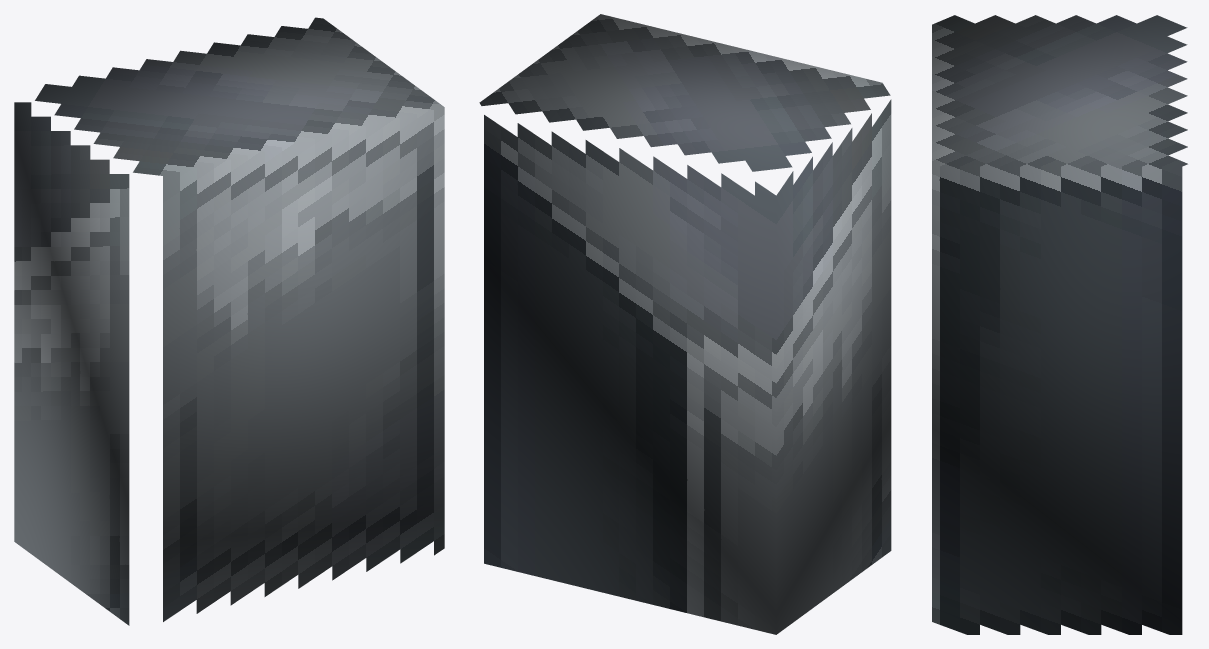
File: InteractiveTrigger_mission91052.glb
3 renders of one model, left to right at view 1: azimuth 30°, elevation 25°; view 2: azimuth 150°, elevation 25°; view 3: azimuth 270°, elevation 25°, orthographic. The views are drawn at different scales.
Parts seen in each view (by area): view 1: 2DBG_RewardBoxes_Safe_F; view 2: 2DBG_RewardBoxes_Safe_F; view 3: 2DBG_RewardBoxes_Safe_F.
Boxes of the visible parts, x1=… form: 2DBG_RewardBoxes_Safe_F: x1=14, y1=17, x2=444, y2=625; 2DBG_RewardBoxes_Safe_F: x1=479, y1=14, x2=891, y2=634; 2DBG_RewardBoxes_Safe_F: x1=932, y1=15, x2=1187, y2=634.
Size of the model in its own units: 0.5433 by 0.7773 by 0.3955.
1 material, 1 textured.
